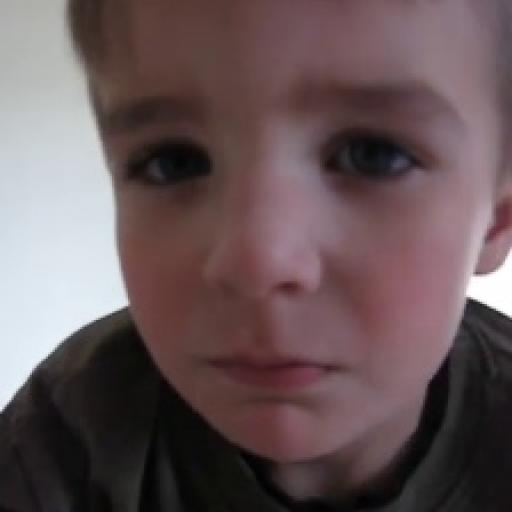Autism: (74, 21, 512, 481)
